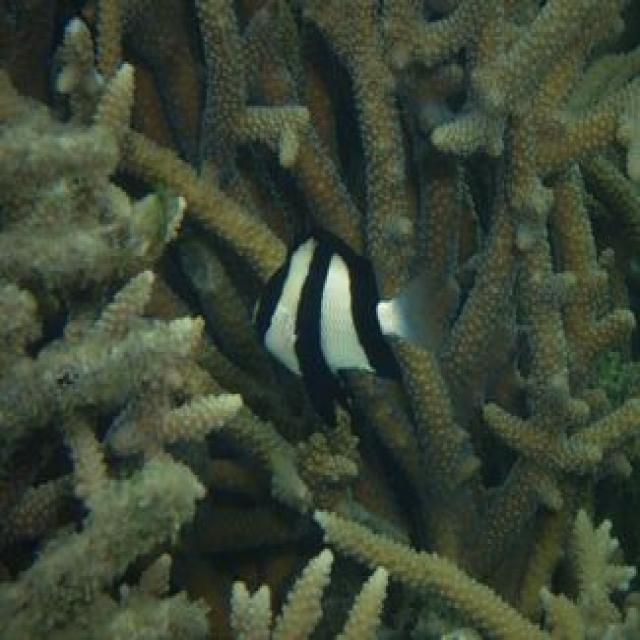Three_striped DasmselFish: (254, 230, 440, 429)
